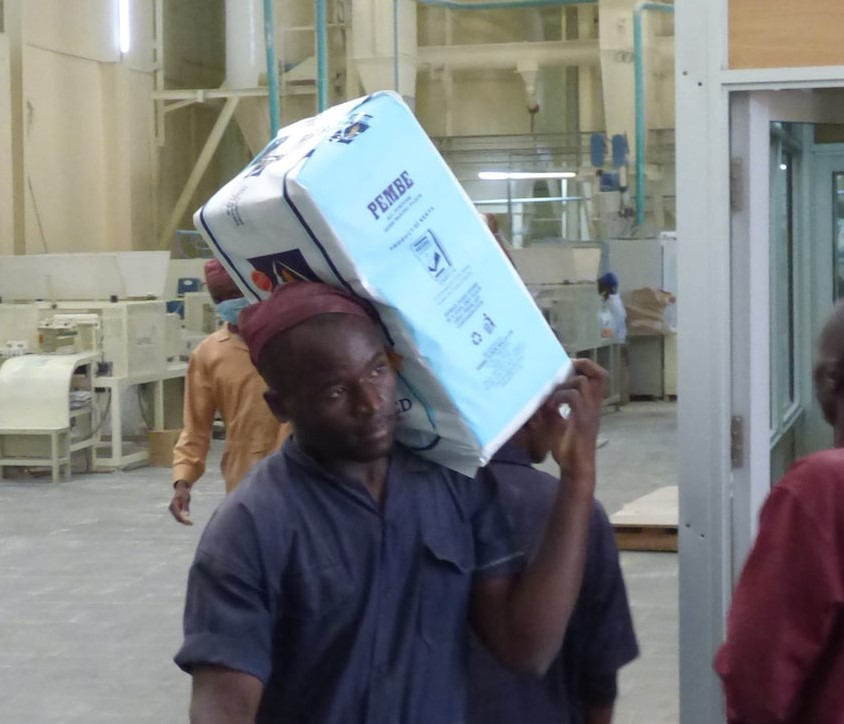wheat_flour_blue_label: (195, 95, 568, 470)
